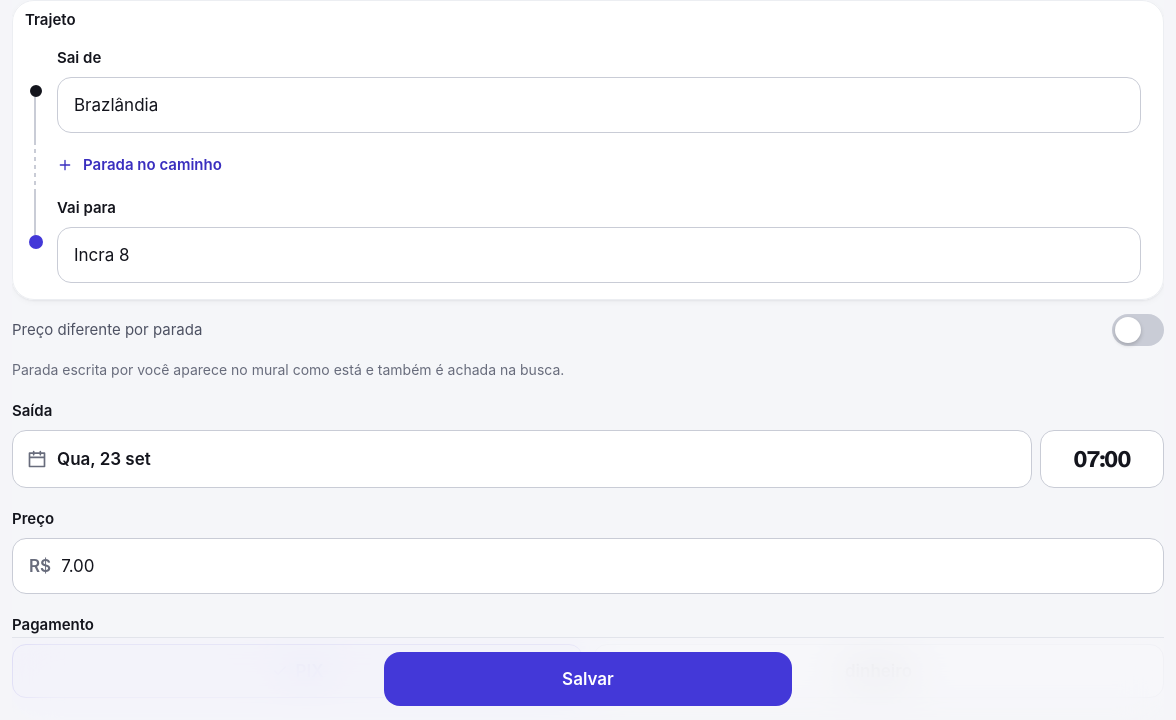
Test: RideForm › shows what the API refused
The image size is (1176, 720).
What coordinates should you click on to do the following:
click the button "Salvar"
I would click on:
 (588, 679)
Its box is [384,652,792,706].
(page scrolled)
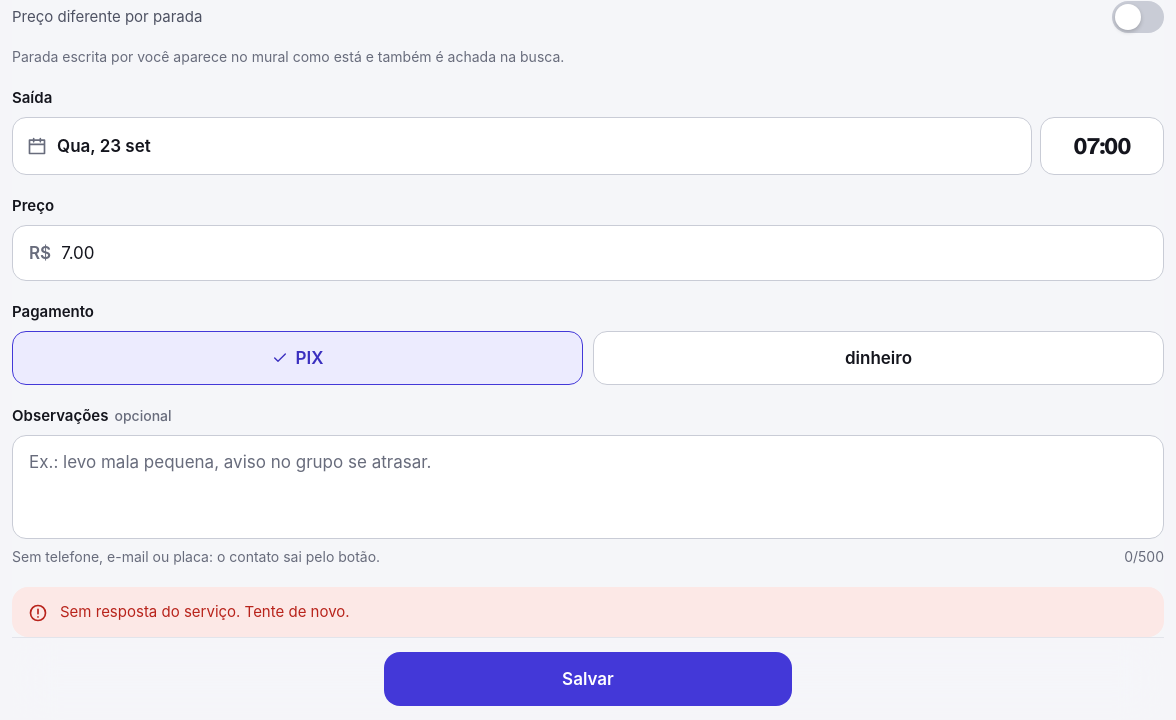
Expected: the message "Sem resposta do serviço. Tente de novo." is shown, [12,587,1164,637]
